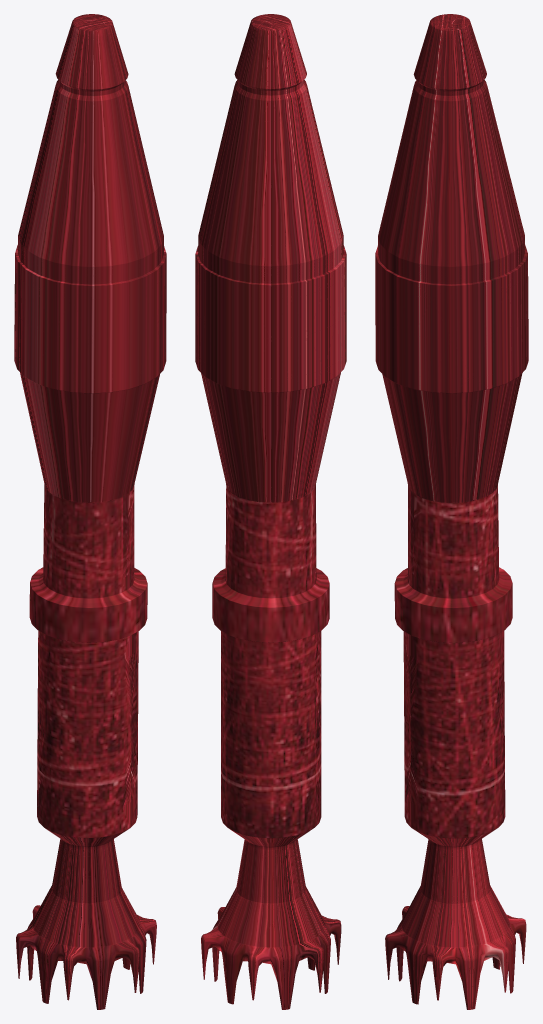
3 renders of one model, left to right at view 1: azimuth 30°, elevation 25°; view 2: azimuth 150°, elevation 25°; view 3: azimuth 270°, elevation 25°, orthographic.
Visible parts, largest first — view 1: Rocket_HP_Rocket_Mat_0; view 2: Rocket_HP_Rocket_Mat_0; view 3: Rocket_HP_Rocket_Mat_0.
Boxes of the visible parts, box(x1,y1,x2,y2) form: Rocket_HP_Rocket_Mat_0: box(14, 14, 166, 1009); Rocket_HP_Rocket_Mat_0: box(195, 14, 346, 1009); Rocket_HP_Rocket_Mat_0: box(375, 14, 528, 1009).
Bounding box in the file's own units: 0.8871 × 6.22 × 0.8965.
Materials: 1 (1 with a texture image).
